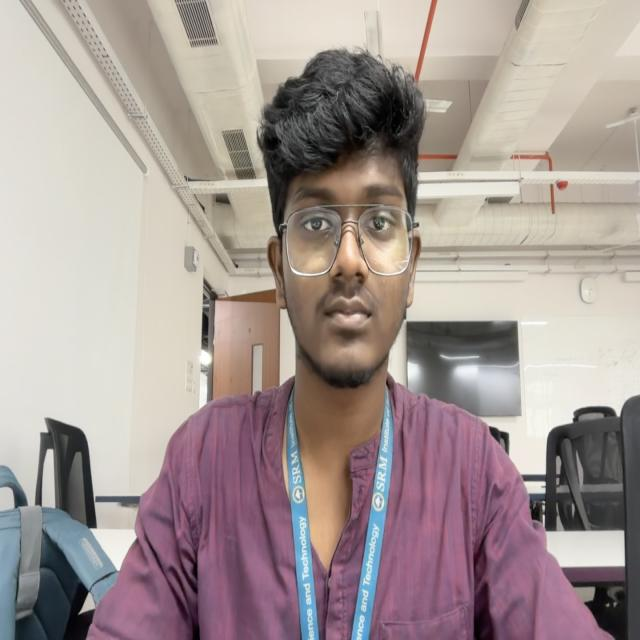ravindra: (256, 50, 424, 392)
